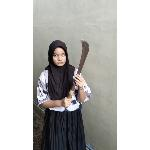Golok: (66, 38, 92, 104)
